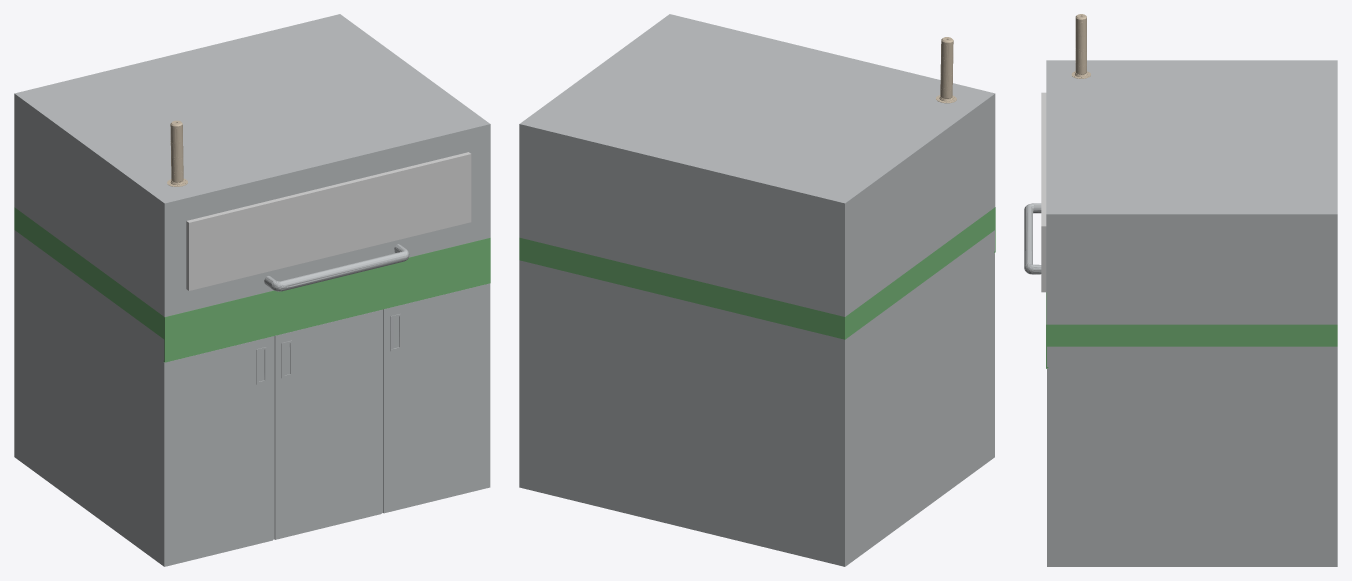
Rendered from CamPress.glb.
The picture shows the model from 3 angles, left to right: view 1: azimuth 30°, elevation 25°; view 2: azimuth 150°, elevation 25°; view 3: azimuth 270°, elevation 25°; orthographic projection. The views are drawn at different scales.
Parts seen in each view (by area): view 1: Mesh_Mesh_head_geo.001_lambert2SG.001; view 2: Mesh_Mesh_head_geo.001_lambert2SG.001; view 3: Mesh_Mesh_head_geo.001_lambert2SG.001.
Boxes of the visible parts, x1,y1,x2,y2 form: Mesh_Mesh_head_geo.001_lambert2SG.001: (14, 14, 490, 566); Mesh_Mesh_head_geo.001_lambert2SG.001: (519, 14, 995, 566); Mesh_Mesh_head_geo.001_lambert2SG.001: (1024, 14, 1337, 566).
Bounding box in the file's own units: 15 × 18.66 × 12.9.
